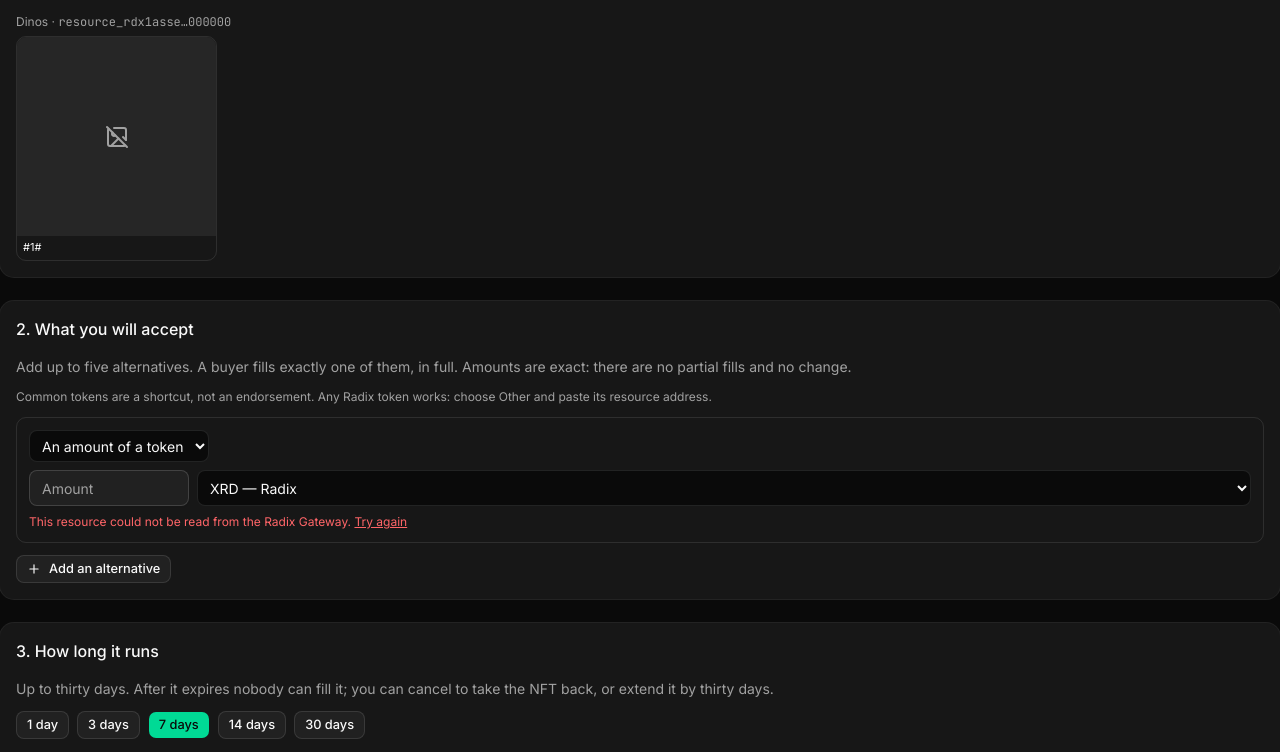
Test: ListNftForm › a failed ask-resource lookup says so with Try again, which re-reads it — never 'Looking up…' for good
The width and height of the screenshot is (1280, 752).
Expected: the text "This resource could not be read from the Radix Gateway. Try again" is shown, [29,514,407,530]
Click the button "#1#". click: (117, 148)
box: [16,36,217,261]
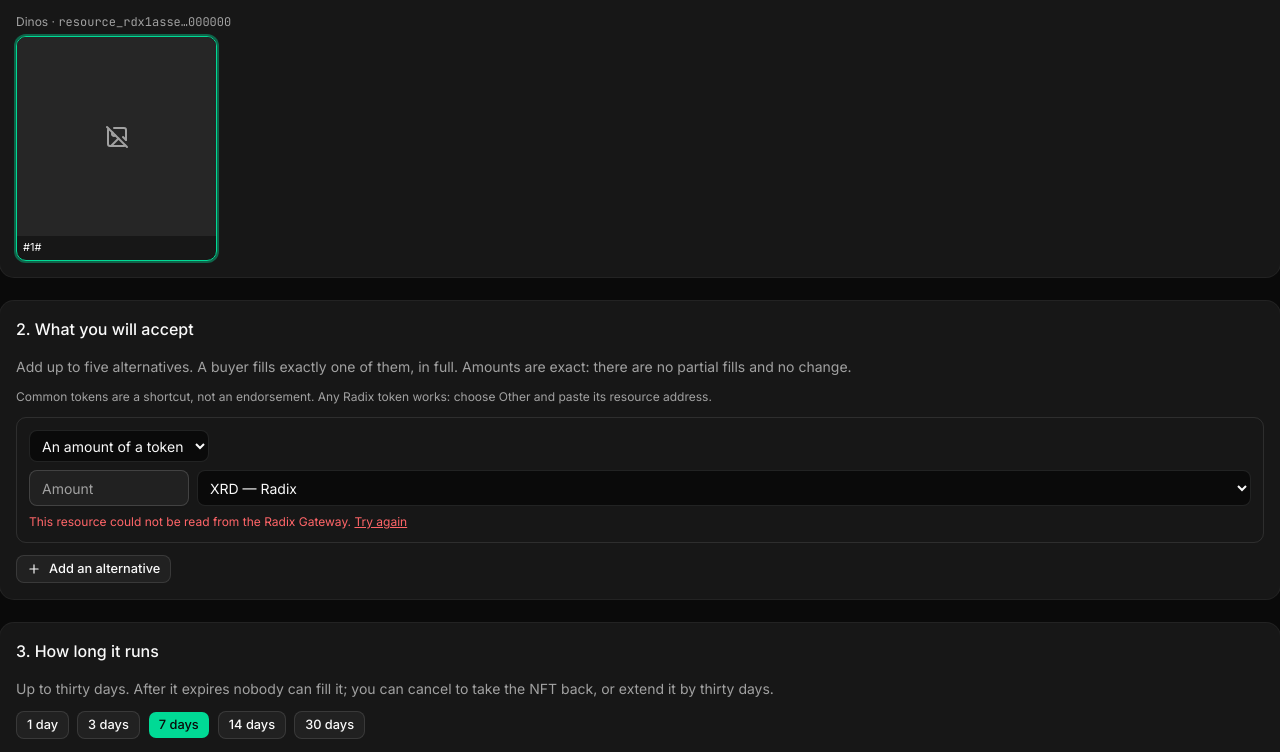
Type "5" into the field named "Alternative 1 amount". click: (109, 488)
box: [29,470,189,506]
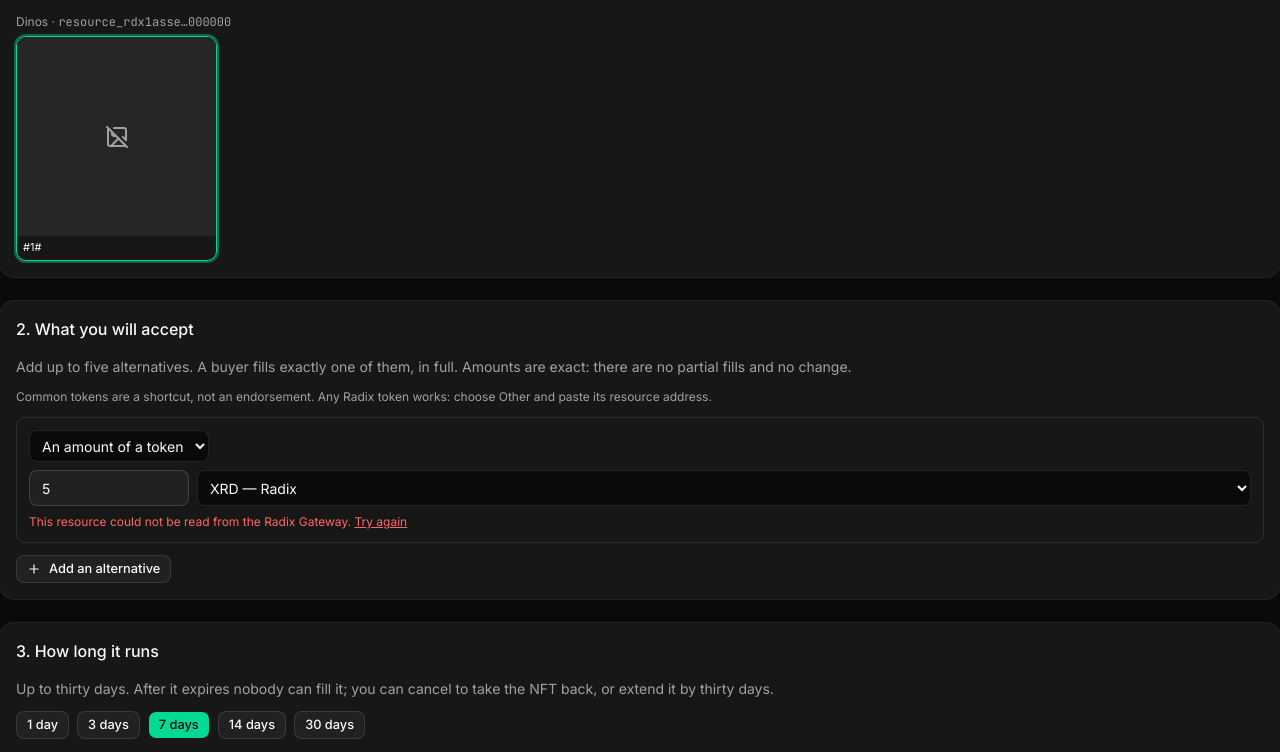
Click the button "Try again". click: (381, 522)
box: [354,514,407,530]
(page scrolled)
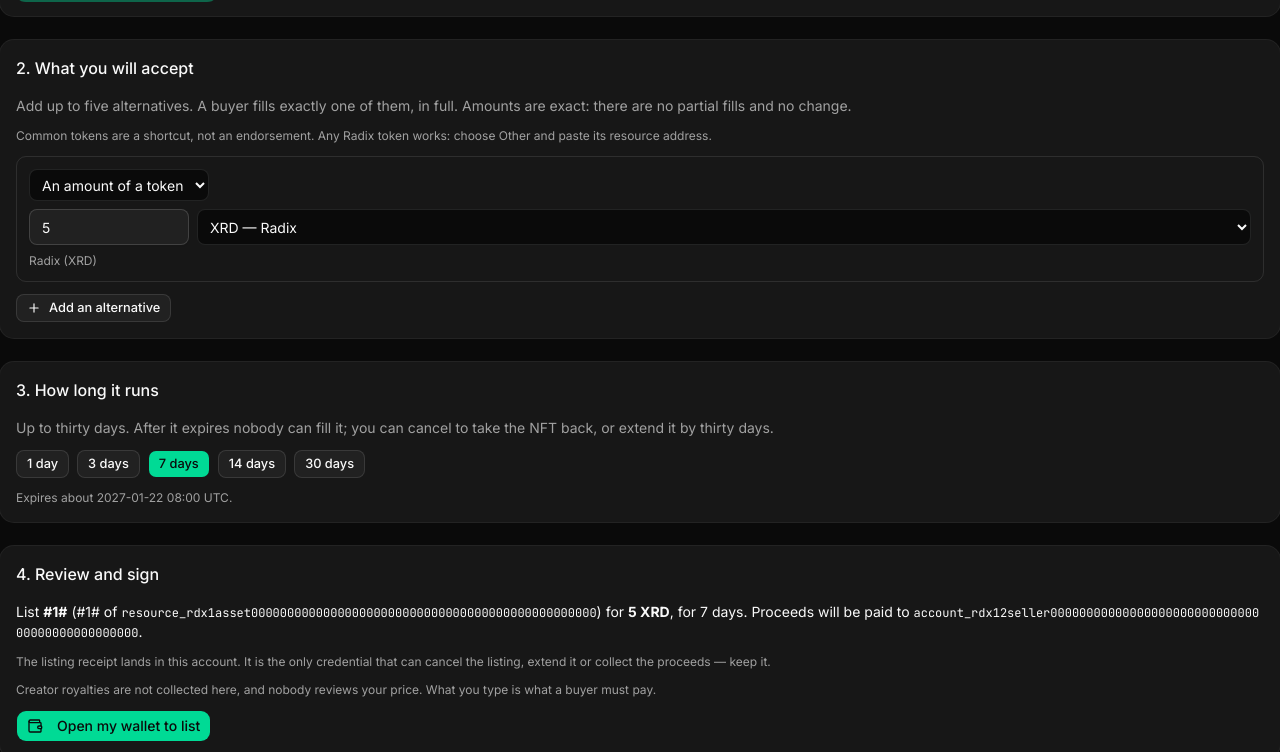
Now the text "Radix (XRD)" is shown, box [29,253,97,268]
Now the text "This resource could not be read" is gone
Now the button "Open my wallet to list" is enabled, box [16,710,211,742]
